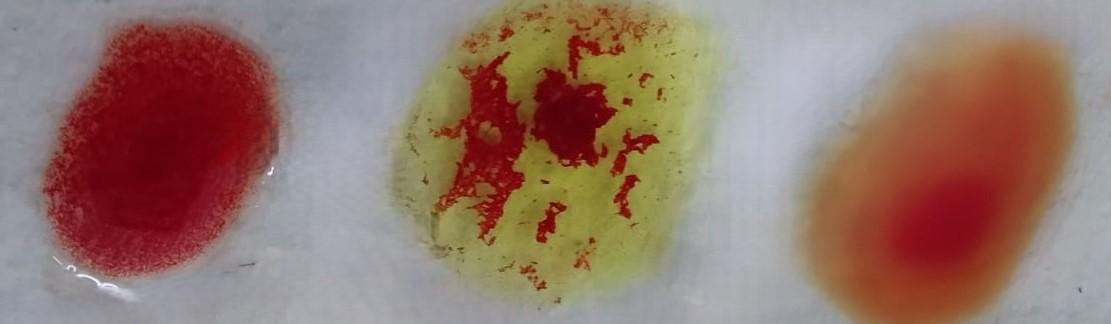B: (418, 10, 693, 307)
D: (62, 15, 271, 282)
